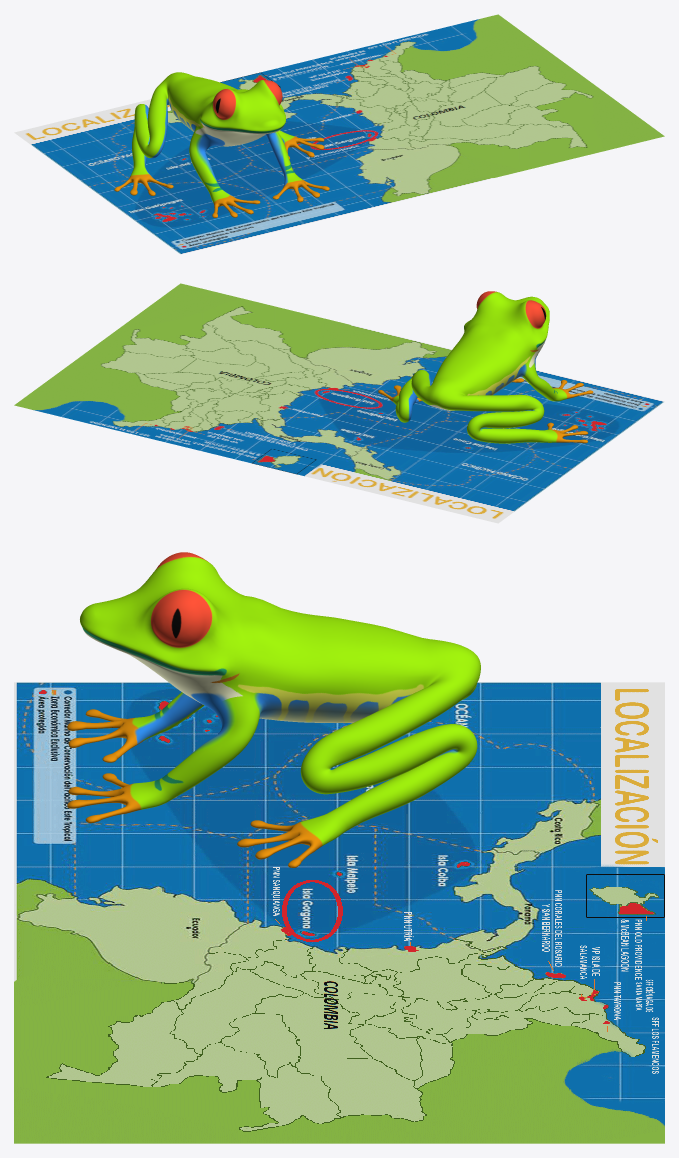
Rendered from asset.glb.
3 renders of one model, top to bottom at view 1: azimuth 30°, elevation 25°; view 2: azimuth 150°, elevation 25°; view 3: azimuth 270°, elevation 25°, orthographic. The views are drawn at different scales.
Parts seen in each view (by area): view 1: mesh_id35, node_id44; view 2: mesh_id35, node_id44; view 3: mesh_id35, node_id44.
Boxes of the visible parts, left/top/right/bottom form: mesh_id35: left=14, top=14, right=664, bottom=254; node_id44: left=114, top=72, right=329, bottom=217; mesh_id35: left=14, top=283, right=664, bottom=523; node_id44: left=378, top=291, right=593, bottom=443; mesh_id35: left=14, top=682, right=664, bottom=1143; node_id44: left=67, top=552, right=480, bottom=867.
Size of the model in its own units: 0.335 by 0.0725 by 0.1997.
2 materials, 2 textured.
